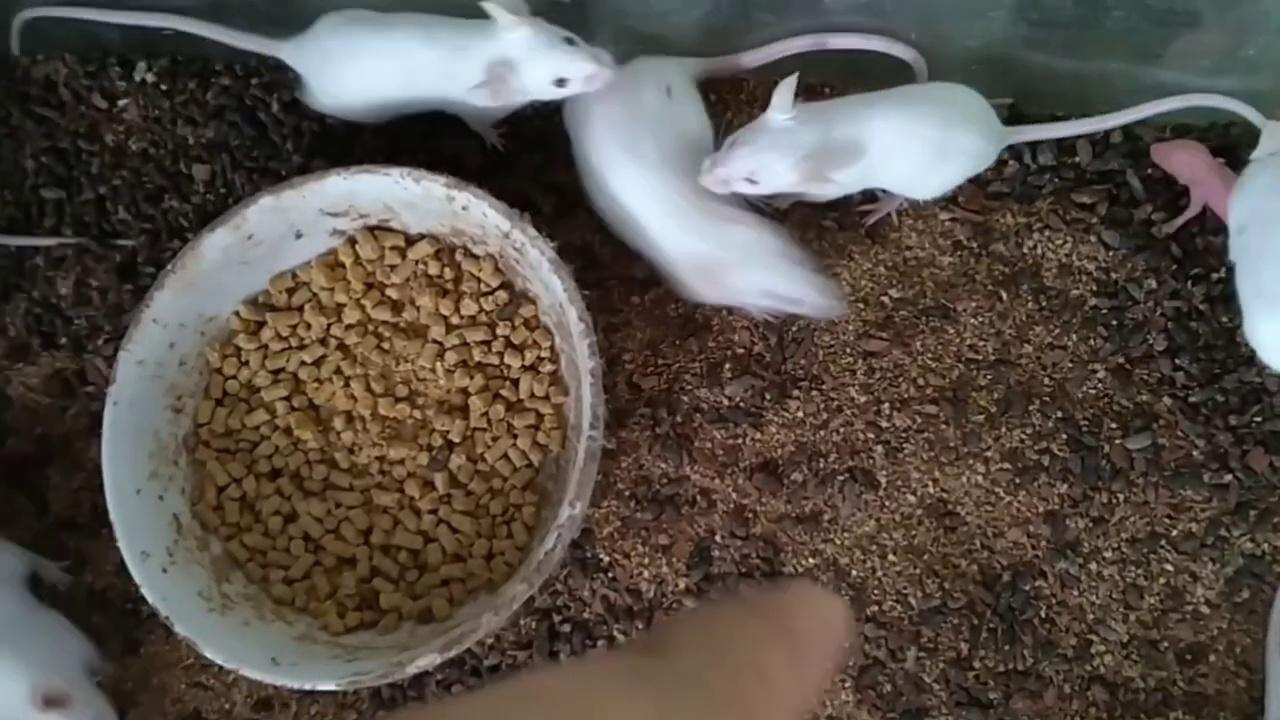rat: (574, 33, 926, 317), (701, 73, 1280, 229), (6, 1, 612, 148), (1149, 139, 1245, 233)
